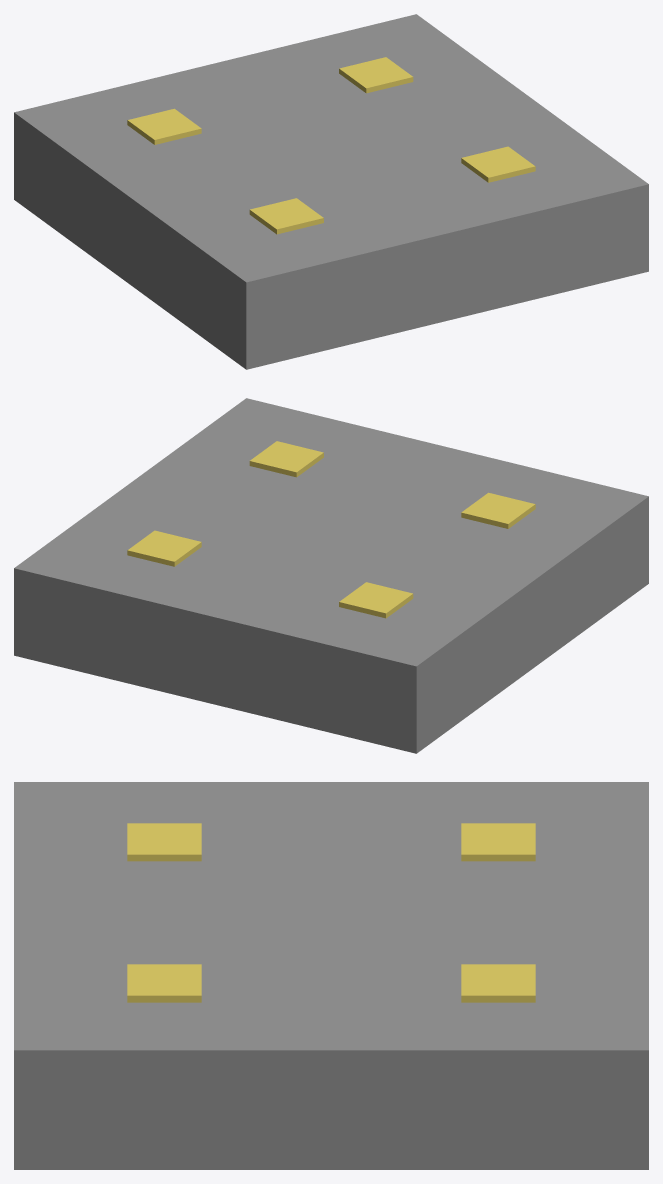
The model's file is Cranebase.fbx.
The picture shows the model from 3 angles, top to bottom: view 1: azimuth 30°, elevation 25°; view 2: azimuth 150°, elevation 25°; view 3: azimuth 270°, elevation 25°; orthographic projection. The views are drawn at different scales.
Visible parts, largest first — view 1: Concrete_Cube.001, Crane_Cylinder.005; view 2: Concrete_Cube.001, Crane_Cylinder.005; view 3: Concrete_Cube.001, Crane_Cylinder.005.
Boxes of the visible parts, x1,y1,x2,y2 form: Concrete_Cube.001: [14, 14, 648, 369]; Crane_Cylinder.005: [127, 57, 535, 234]; Concrete_Cube.001: [14, 398, 648, 753]; Crane_Cylinder.005: [127, 441, 535, 618]; Concrete_Cube.001: [14, 782, 648, 1169]; Crane_Cylinder.005: [127, 823, 535, 1002].
Size of the model in its own units: 152 by 33.39 by 152.
